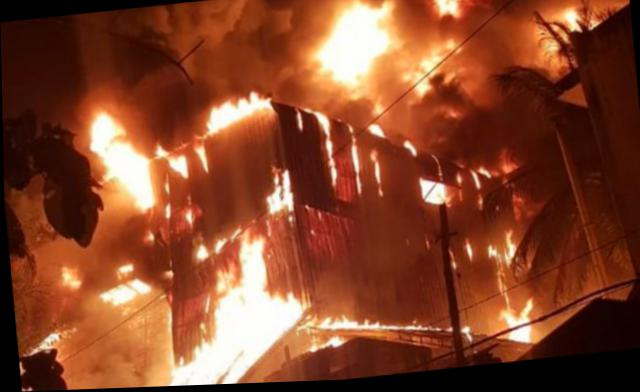fire: (80, 106, 153, 218), (325, 11, 396, 90), (197, 80, 279, 137), (149, 135, 214, 196), (213, 292, 254, 385), (91, 265, 156, 315), (243, 244, 270, 355), (160, 348, 222, 387), (541, 5, 591, 41), (311, 314, 397, 333), (270, 290, 306, 334), (405, 319, 470, 343), (503, 301, 536, 347), (485, 230, 520, 262), (420, 181, 457, 203), (432, 0, 470, 20)
smoke: (141, 0, 306, 84), (67, 313, 157, 389), (35, 212, 126, 269), (84, 9, 138, 102), (474, 14, 525, 72), (16, 265, 62, 327), (147, 80, 192, 133), (447, 120, 497, 164), (289, 72, 334, 117), (391, 109, 441, 146), (509, 0, 628, 10)
